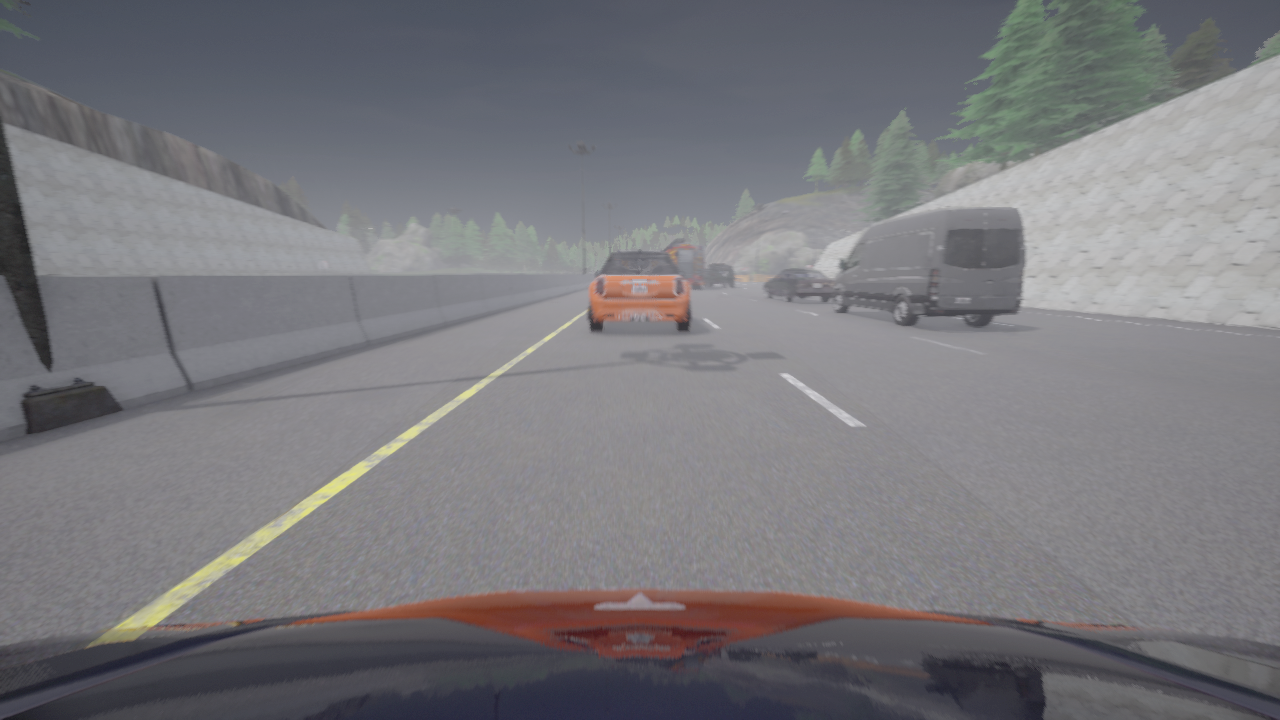cyclist: (0, 588, 1279, 719), (831, 208, 1025, 326), (588, 250, 690, 331), (764, 269, 833, 302), (664, 239, 704, 288), (703, 264, 734, 287), (618, 250, 661, 252)
